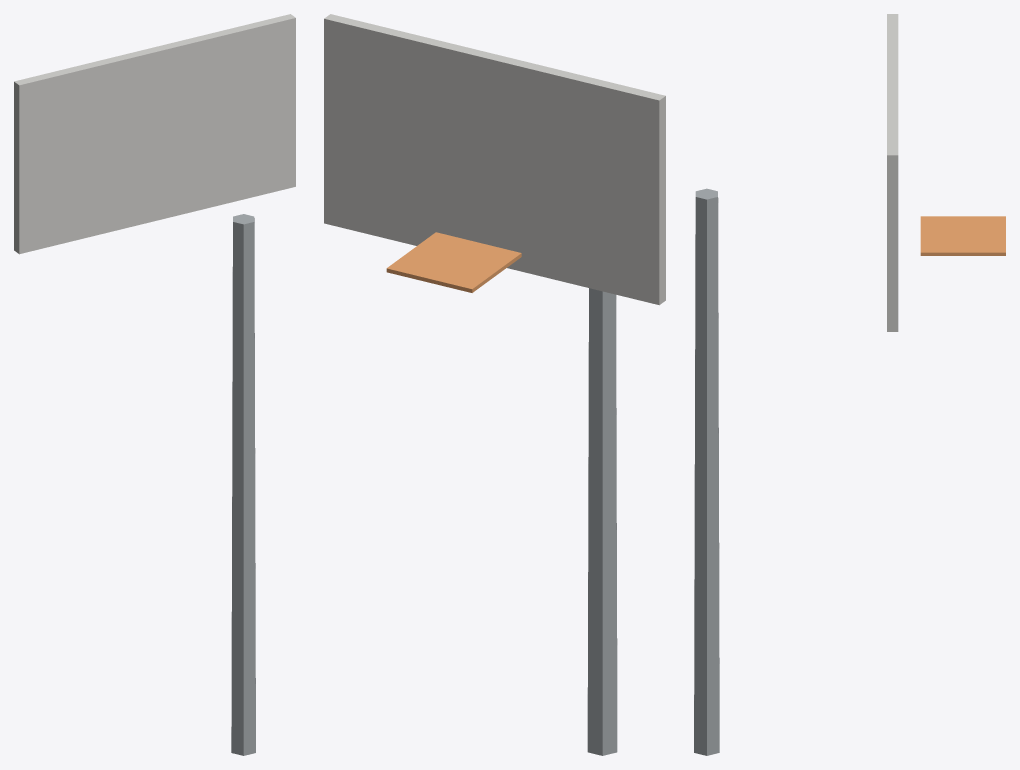
The model's file is basketball-hoop-far.glb.
The picture shows the model from 3 angles, left to right: view 1: azimuth 30°, elevation 25°; view 2: azimuth 150°, elevation 25°; view 3: azimuth 270°, elevation 25°; orthographic projection. The views are drawn at different scales.
Visible parts, largest first — view 1: basketball-hoop-far; view 2: basketball-hoop-far; view 3: basketball-hoop-far.
Part boxes in pixels (<box>): basketball-hoop-far: <box>14,14,295,755</box>; basketball-hoop-far: <box>324,14,665,755</box>; basketball-hoop-far: <box>694,14,1005,755</box>.
Bounding box in the file's own units: 0.4557 × 1 × 0.4251.
